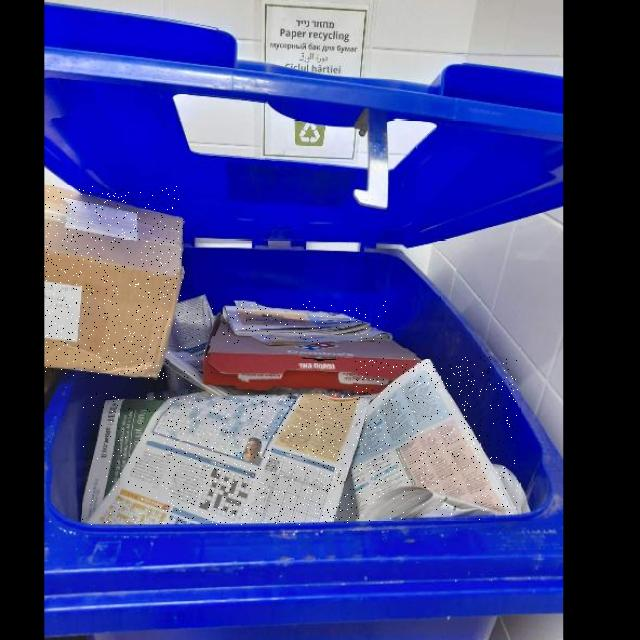paper: (89, 393, 375, 525), (44, 186, 184, 379), (353, 358, 518, 513), (82, 401, 165, 522), (224, 302, 390, 345), (361, 486, 495, 520), (171, 298, 213, 388)
